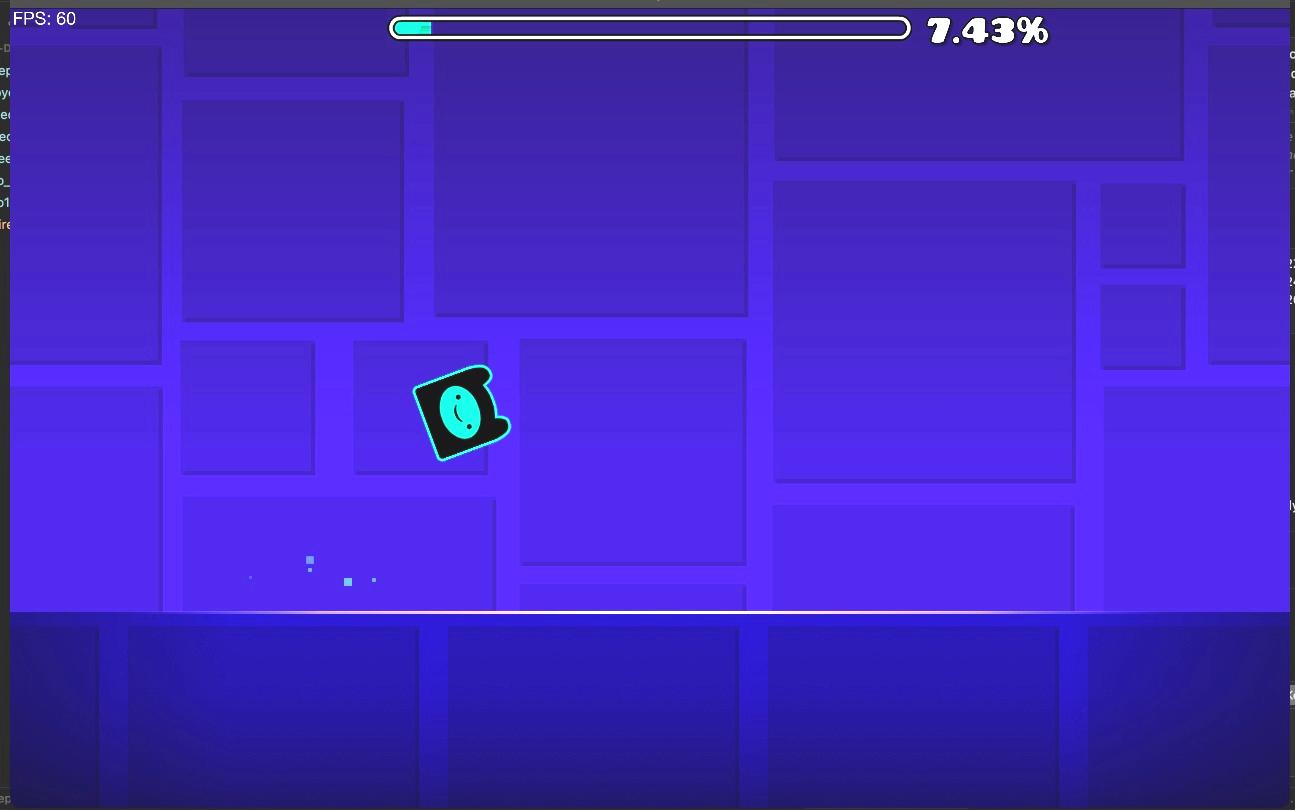player: (413, 365, 510, 460)
